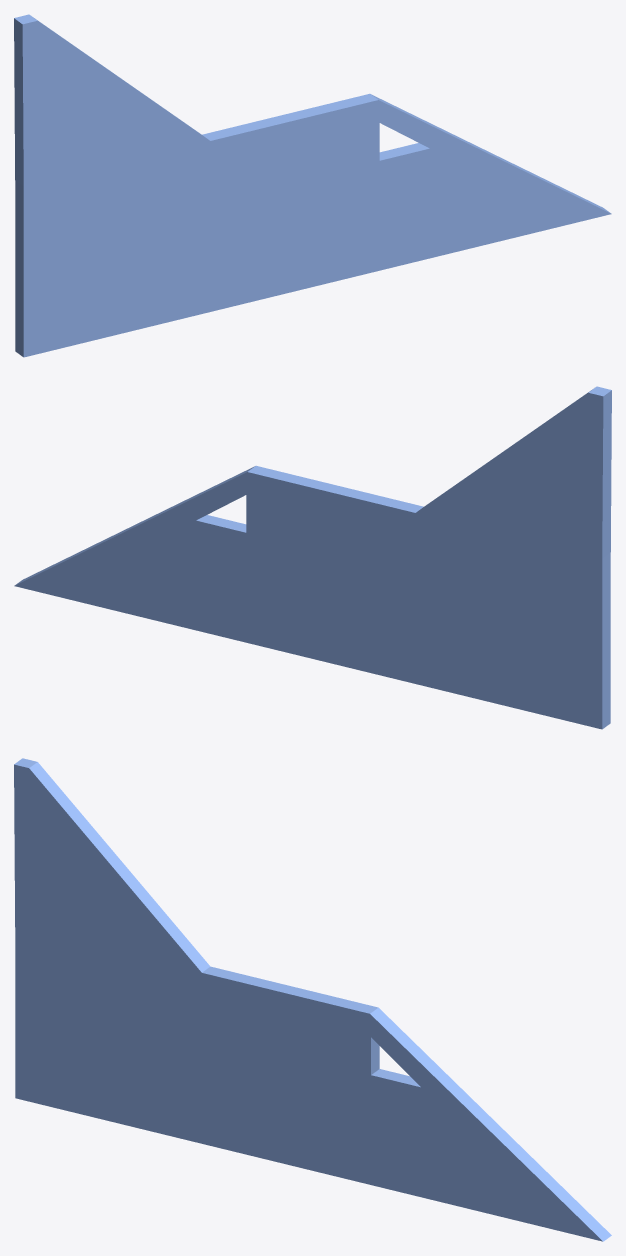
The model's file is Week5-ModelTest-Ship.fbx.
3 renders of one model, top to bottom at view 1: azimuth 30°, elevation 25°; view 2: azimuth 150°, elevation 25°; view 3: azimuth 330°, elevation 25°, orthographic.
Visible parts, largest first — view 1: Model; view 2: Model; view 3: Model.
Part boxes in pixels (x1,y1,x2,y2): Model: (14,14,611,357); Model: (14,386,611,729); Model: (14,758,611,1241).
Bounding box in the file's own units: 77.88 × 42.1 × 1.97.
